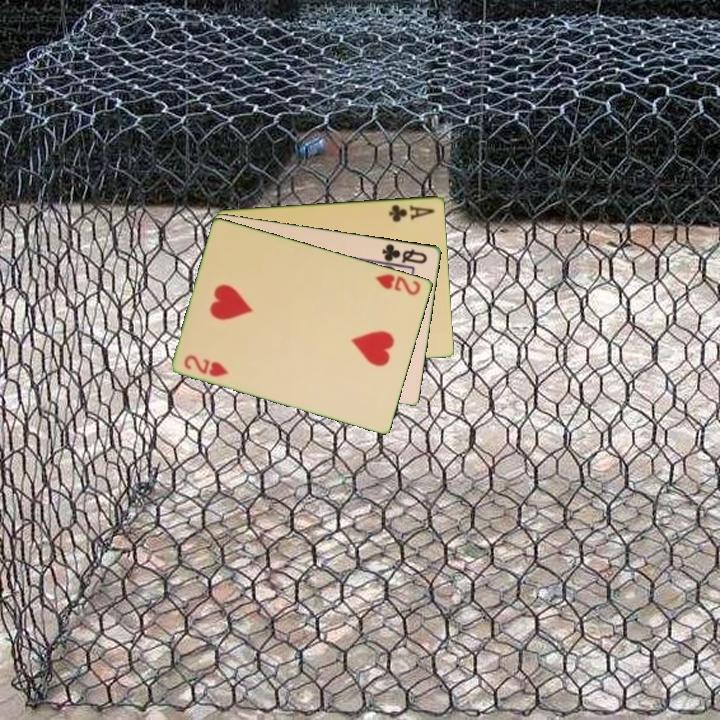2h: (372, 270, 424, 298), (181, 351, 231, 380)
Ac: (386, 201, 438, 224)
Qc: (379, 240, 430, 266)
